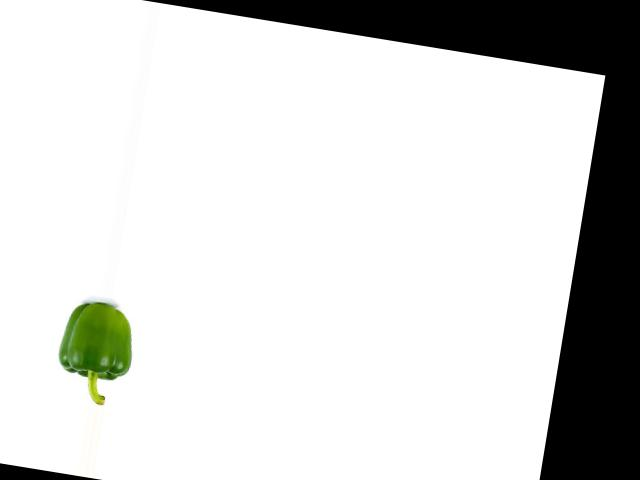bell_pepper: (40, 295, 141, 406)
